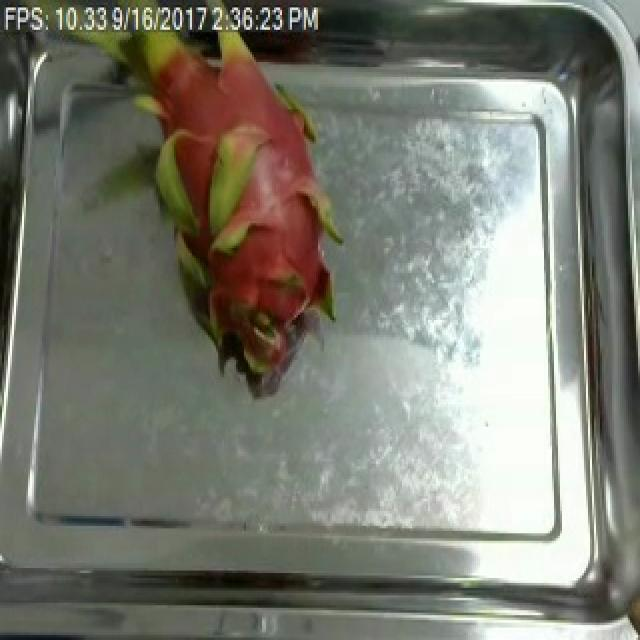fruit: (84, 0, 354, 392)
